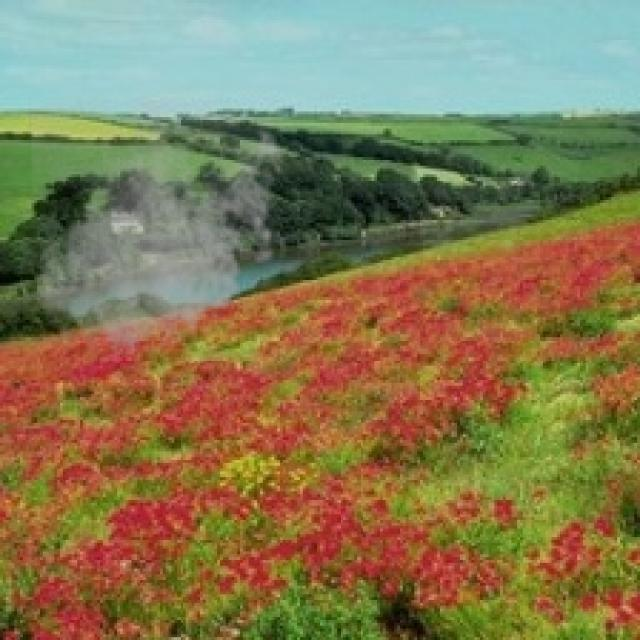Smoke: (28, 97, 292, 366)
